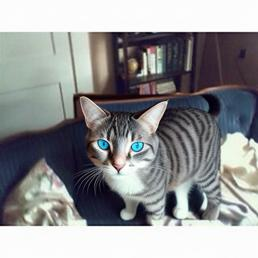cat: (73, 94, 220, 219)
sofa: (2, 86, 258, 227)
